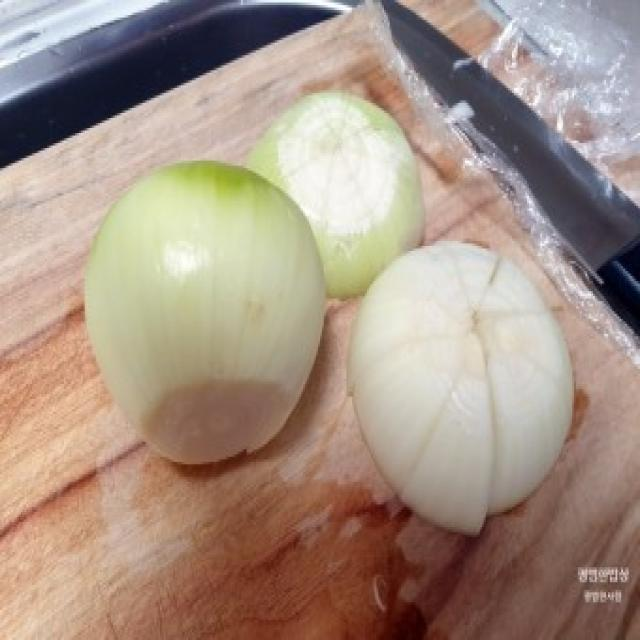onion: (328, 205, 574, 540), (77, 142, 300, 450), (260, 100, 392, 302)
